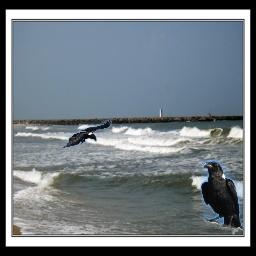Crow: (200, 160, 244, 231), (62, 119, 112, 148)
